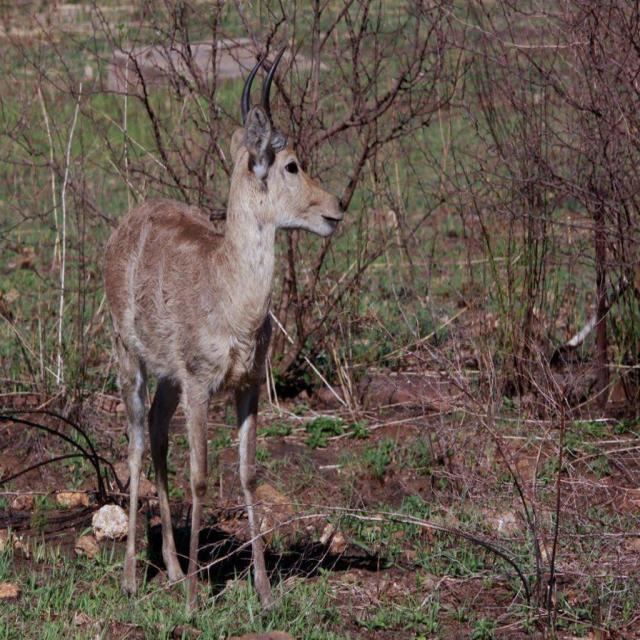Deer: (96, 45, 343, 623)
